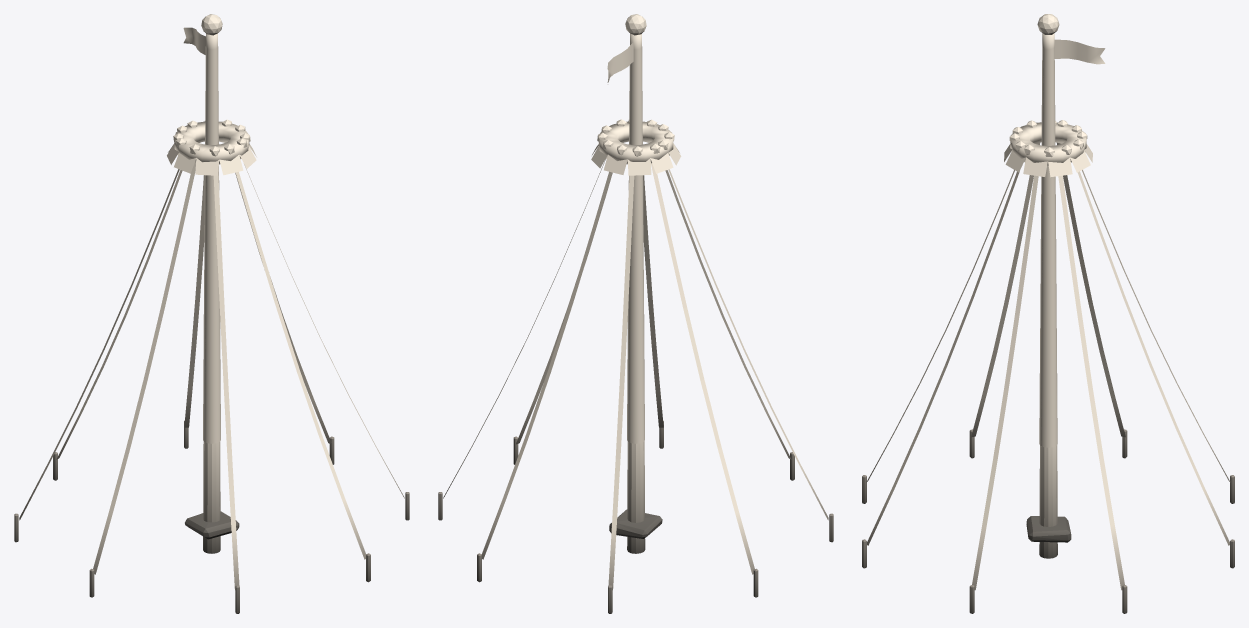
Rendered from SM_VK_Prop_Maypole.fbx.
3 views of the same model, side by side, from view 1: azimuth 30°, elevation 25°; view 2: azimuth 150°, elevation 25°; view 3: azimuth 270°, elevation 25° (orthographic).
Visible parts, largest first — view 1: SM_VK_Prop_Maypole.001; view 2: SM_VK_Prop_Maypole.001; view 3: SM_VK_Prop_Maypole.001.
Boxes of the visible parts, left/top/right/bottom form: SM_VK_Prop_Maypole.001: left=14, top=14, right=409, bottom=613; SM_VK_Prop_Maypole.001: left=438, top=14, right=833, bottom=613; SM_VK_Prop_Maypole.001: left=862, top=14, right=1234, bottom=613.
Bounding box in the file's own units: 6.09 × 9.73 × 6.09.
